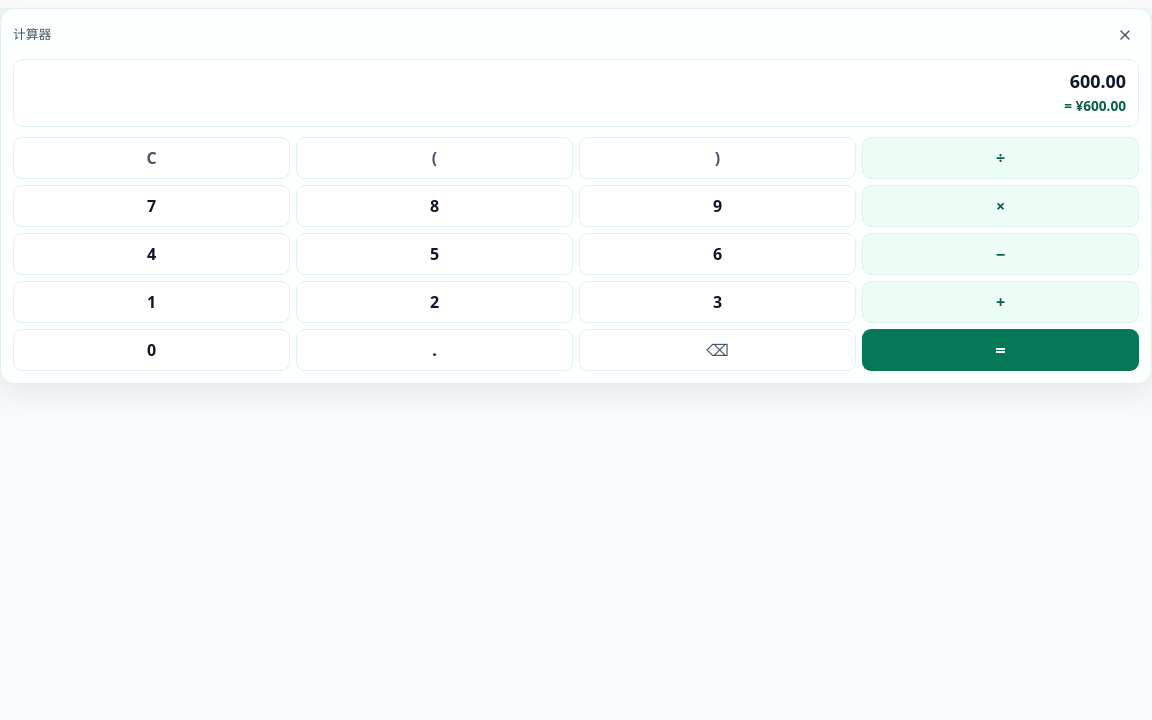
CalculatorPanel › opens with the current value and shows a live result
expect the dialog named "计算器：活动总额" is shown: met, box [0,8,1151,384]
expect the text named "计算器表达式" reads "600.00": met, box [1070,69,1126,93]
Click the button named "加": (1000, 302) [862,281,1139,323]
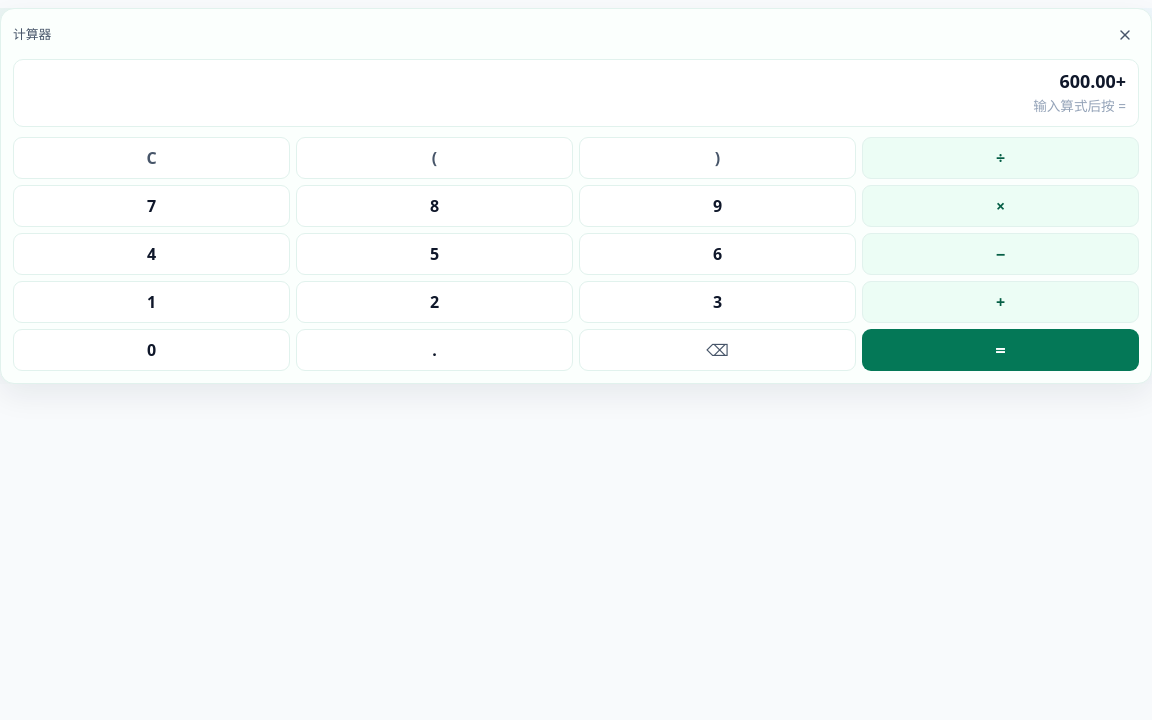
Click the button "5": (434, 254) [296,233,573,275]
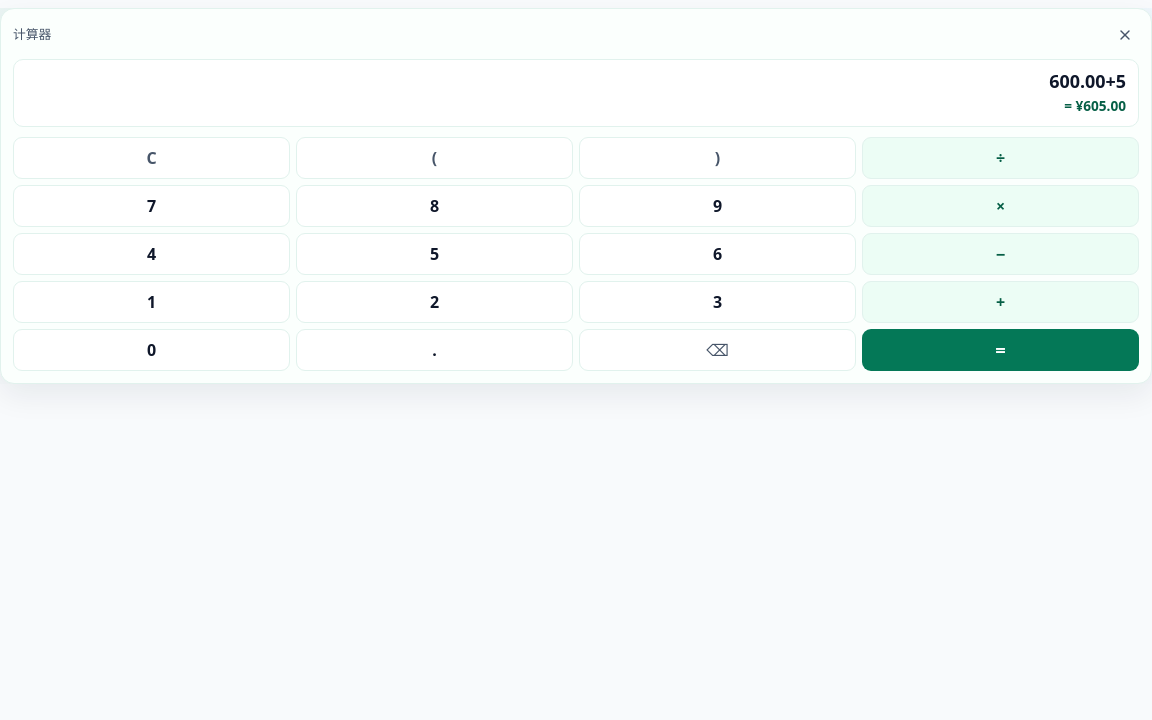
Click the button "0": (152, 350) [13,329,290,371]
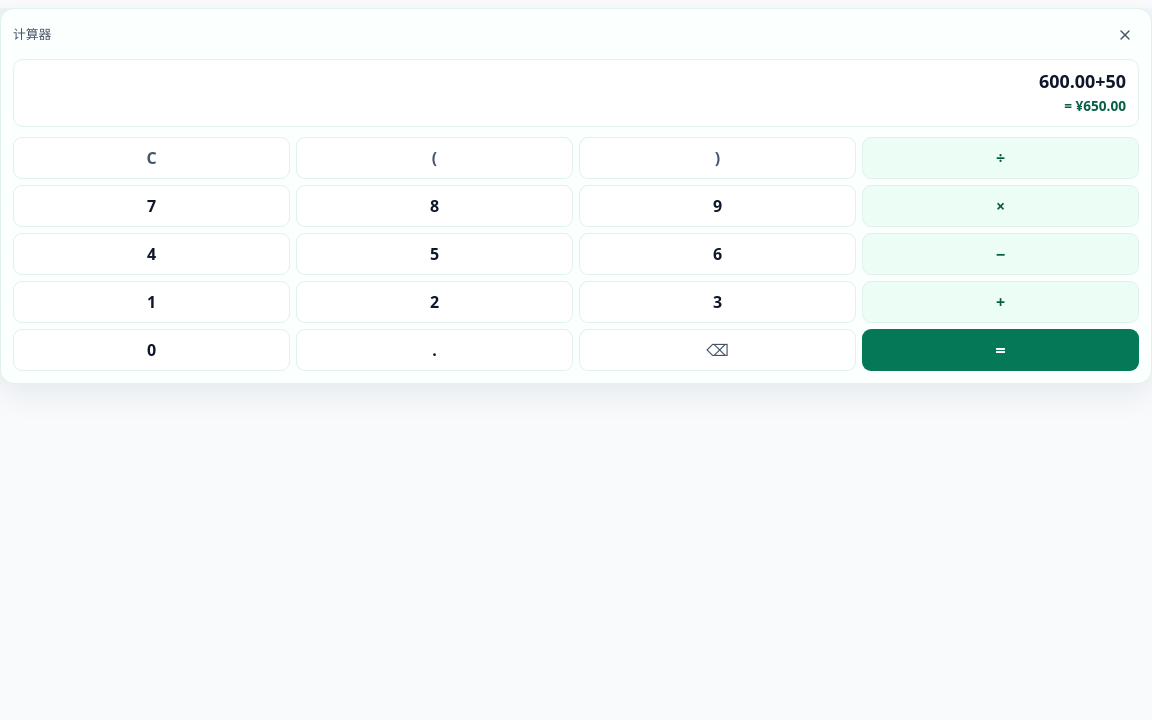
expect the text "= ¥650.00" is shown: met, box [1064,96,1126,115]
